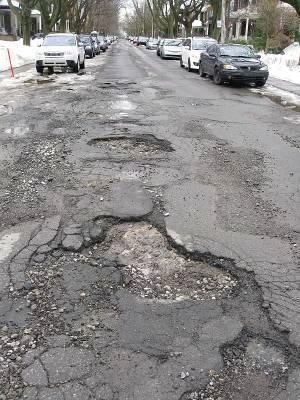pothole: (76, 208, 246, 300), (217, 328, 293, 379), (84, 134, 171, 158)
